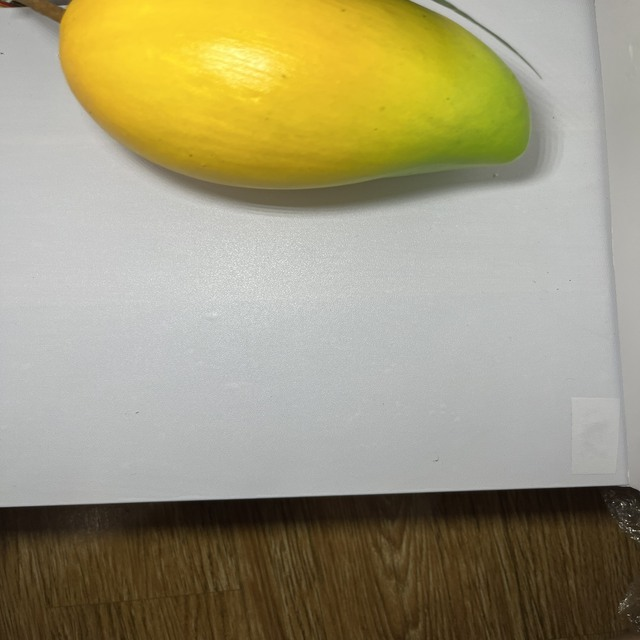Xoai: (45, 0, 544, 192)
